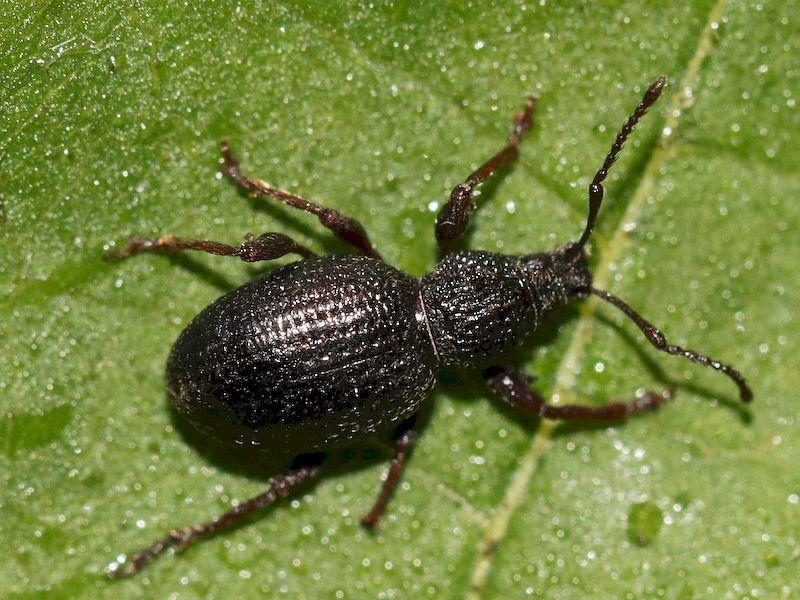weevils: (18, 48, 800, 600)
